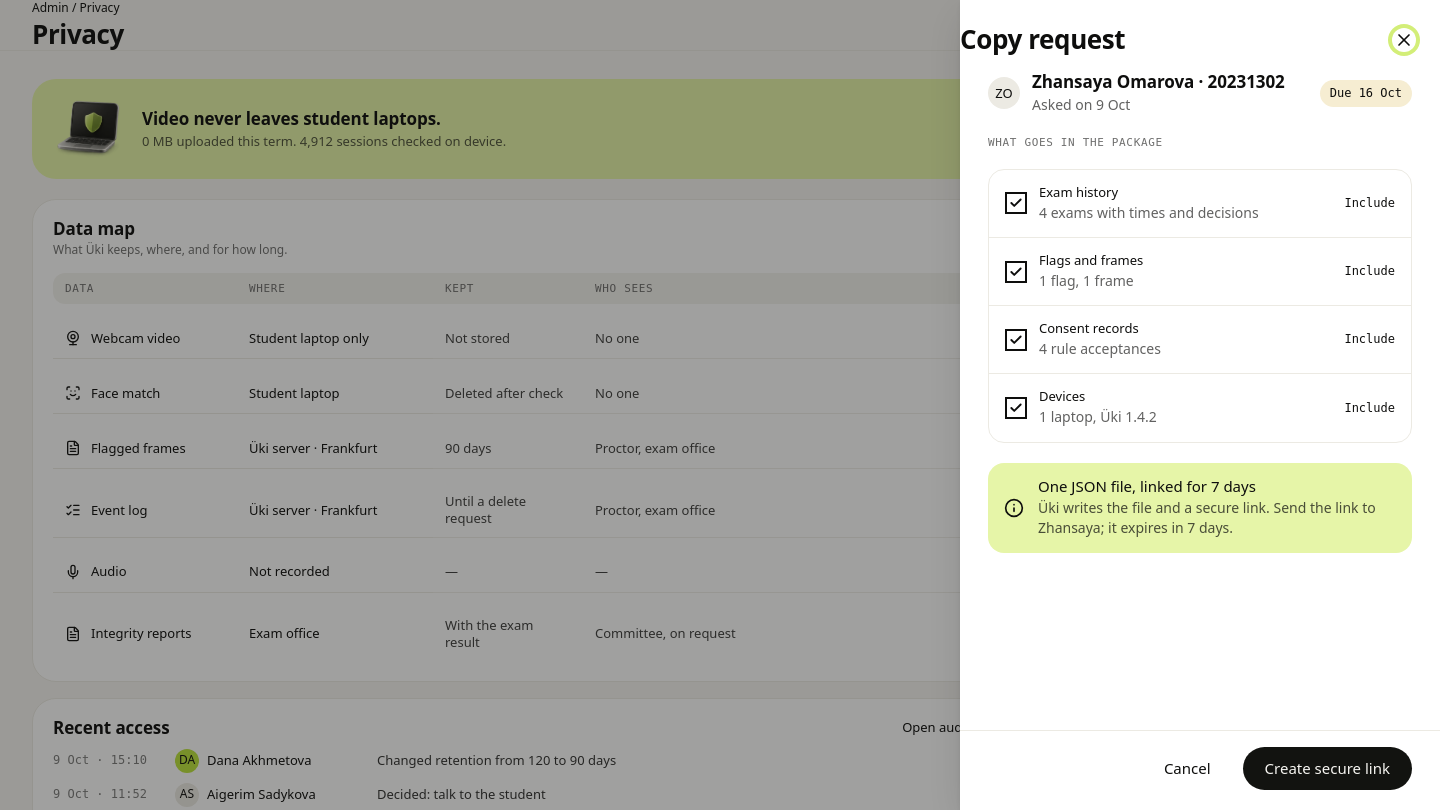
Test: A.5b Copy request › lists the package and shows the 7-day link once
Check: the dialog "Copy request" shows "What goes in the package", box [988,136,1163,149]
Check: the dialog "Copy request" shows "One JSON file, linked for 7 days", box [1038,476,1256,496]
Click the button "Create secure link" at point(1327, 768), box [1243,746,1412,790]
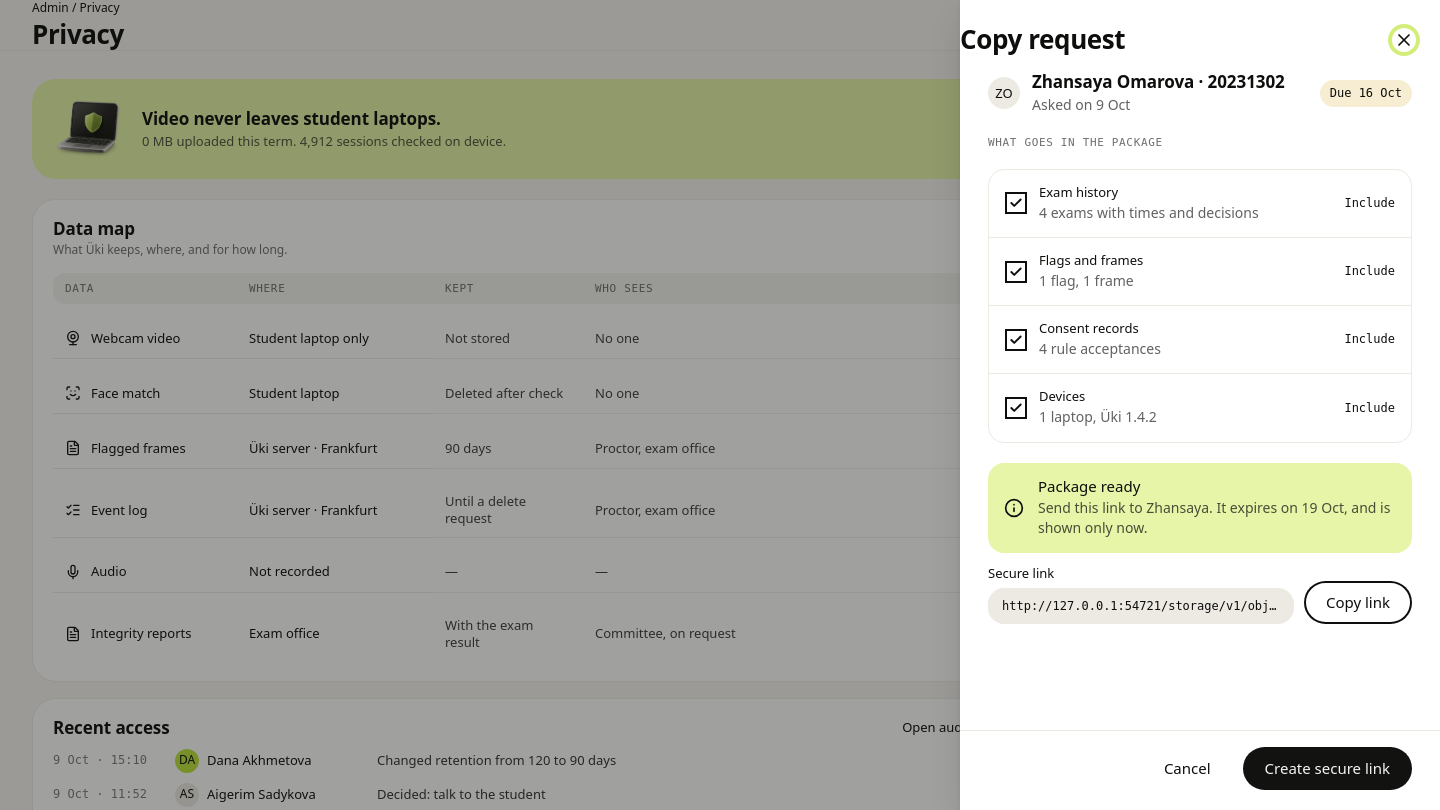
Check: the dialog "Copy request" shows "Package ready", box [1038,476,1140,496]
Check: the dialog "Copy request" shows "Send this link to Zhansaya. It expires on 19 Oct, and is shown only now.", box [1038,498,1390,537]
